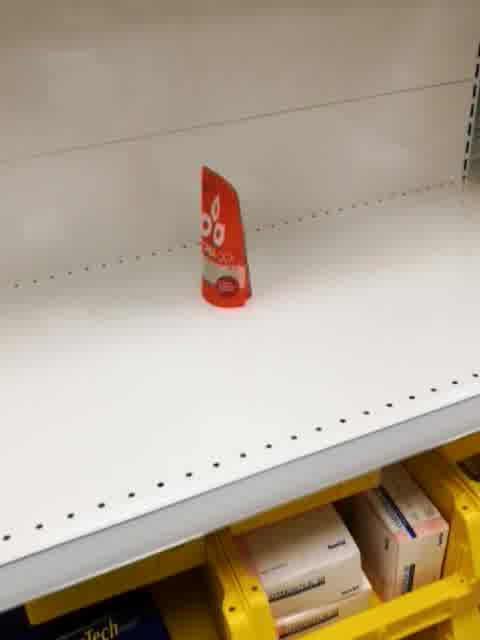whitechia: (199, 162, 255, 313)
